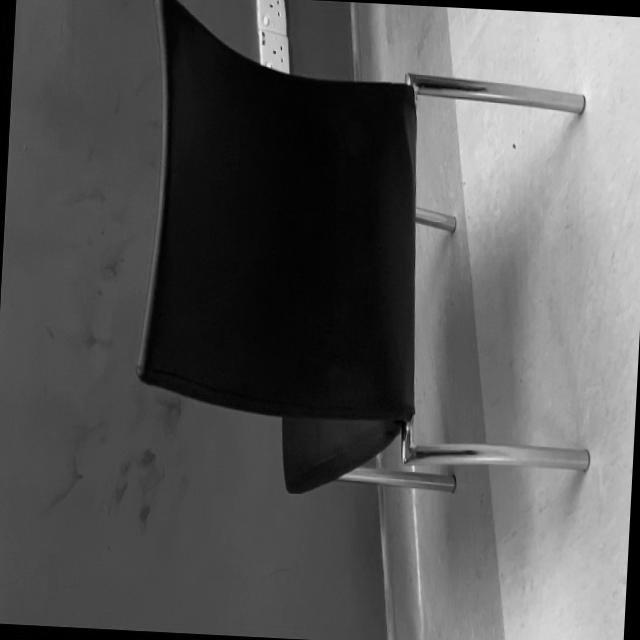chair: (122, 0, 621, 524)
